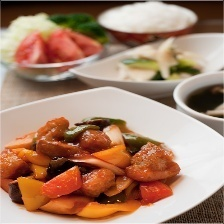sabzi: (0, 115, 179, 220)
